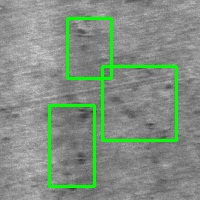rolled-in_scale: (102, 67, 176, 140), (49, 105, 94, 186), (67, 18, 111, 78)
